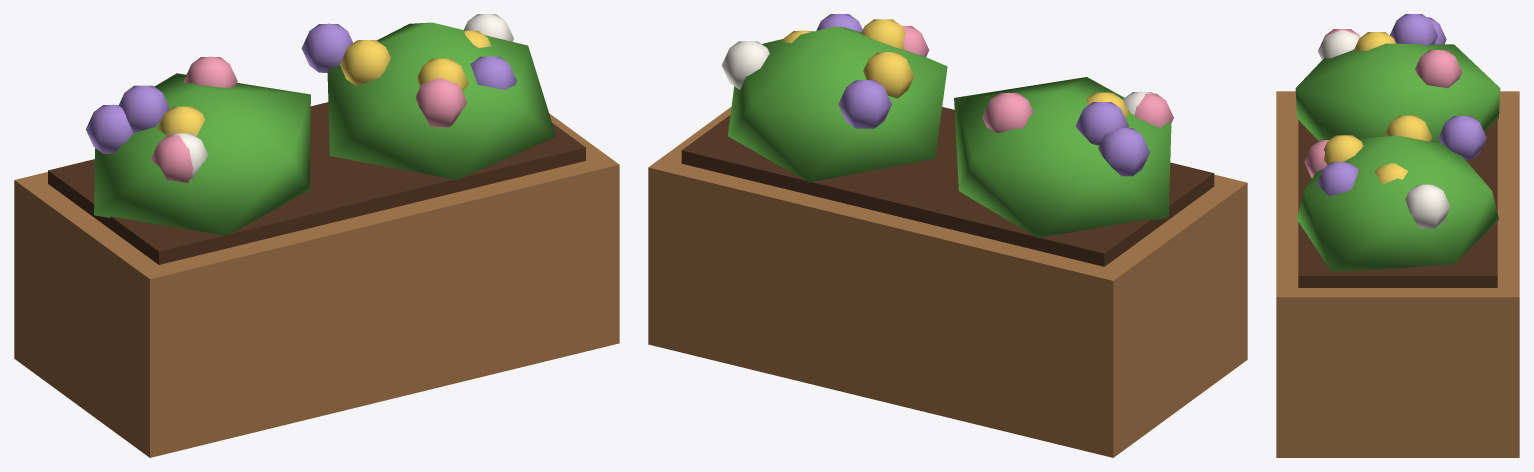
Rendered from prop_planter.glb.
3 renders of one model, left to right at view 1: azimuth 30°, elevation 25°; view 2: azimuth 150°, elevation 25°; view 3: azimuth 270°, elevation 25°, orthographic. The views are drawn at different scales.
Visible parts, largest first — view 1: Prop_Planter; view 2: Prop_Planter; view 3: Prop_Planter.
Part boxes in pixels (x1=…): Prop_Planter: x1=14, y1=14, x2=619, y2=457; Prop_Planter: x1=648, y1=14, x2=1247, y2=457; Prop_Planter: x1=1276, y1=14, x2=1519, y2=457.
Size of the model in its own units: 1.1 by 0.6724 by 0.55.
